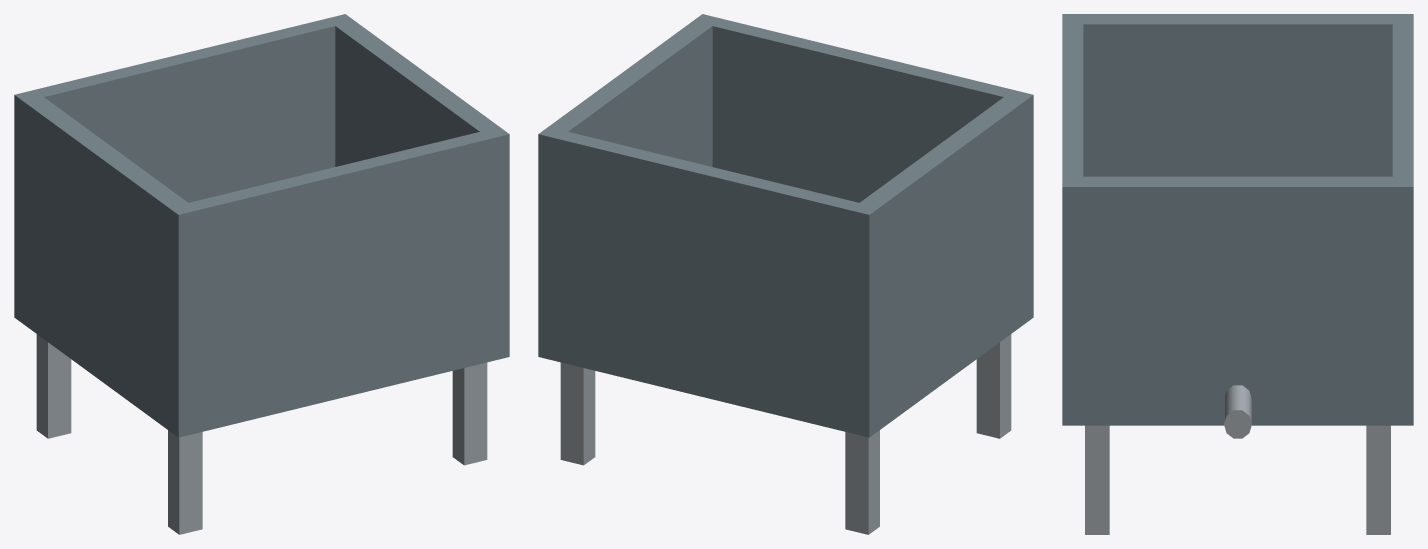
3 views of the same model, side by side, from view 1: azimuth 30°, elevation 25°; view 2: azimuth 150°, elevation 25°; view 3: azimuth 270°, elevation 25° (orthographic). The views are drawn at different scales.
Parts seen in each view (by area): view 1: g0.002, g0.003, g0.005, g0, g0.006, g0.007, g0.008, g0.004; view 2: g0.003, g0.005, g0.002, g0, g0.006, g0.009, g0.004, g0.008; view 3: g0, g0.005, g0.006, g0.002, g0.003, g0.009, g0.007, g0.001.
Part boxes in pixels (left/top/right/bottom): g0.002: left=168, top=127, right=509, bottom=422; g0.003: left=14, top=14, right=354, bottom=310; g0.005: left=24, top=97, right=198, bottom=422; g0: left=335, top=21, right=509, bottom=347; g0.006: left=14, top=297, right=509, bottom=437; g0.007: left=452, top=362, right=487, bottom=465; g0.008: left=168, top=430, right=202, bottom=534; g0.004: left=36, top=334, right=71, bottom=438; g0.003: left=538, top=127, right=879, bottom=418; g0.005: left=849, top=95, right=1033, bottom=423; g0.002: left=693, top=14, right=1033, bottom=255; g0: left=538, top=21, right=712, bottom=347; g0.006: left=538, top=290, right=1033, bottom=437; g0.009: left=560, top=362, right=595, bottom=465; g0.004: left=845, top=430, right=879, bottom=534; g0.008: left=976, top=334, right=1011, bottom=438; g0: left=1062, top=176, right=1413, bottom=410; g0.005: left=1083, top=14, right=1392, bottom=176; g0.006: left=1062, top=395, right=1413, bottom=425; g0.002: left=1062, top=14, right=1083, bottom=373; g0.003: left=1392, top=14, right=1413, bottom=395; g0.009: left=1366, top=425, right=1390, bottom=534; g0.007: left=1085, top=425, right=1109, bottom=534; g0.001: left=1224, top=385, right=1251, bottom=438.
Bounding box in the file's own units: 2.4 × 2 × 1.8.
